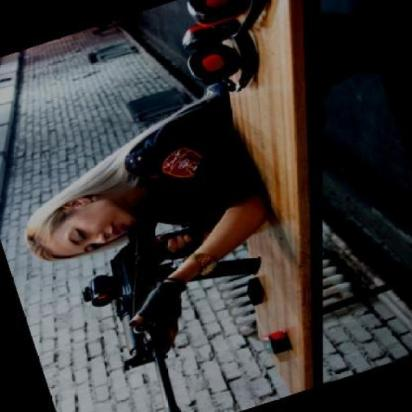Gun: (57, 183, 292, 412)
